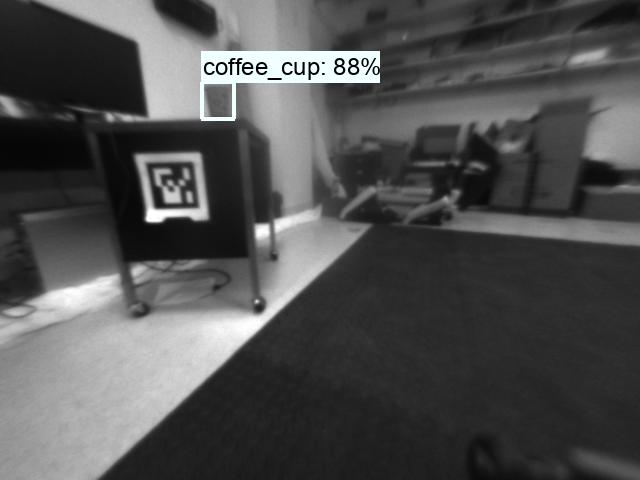coffee_cup: (199, 83, 232, 120)
